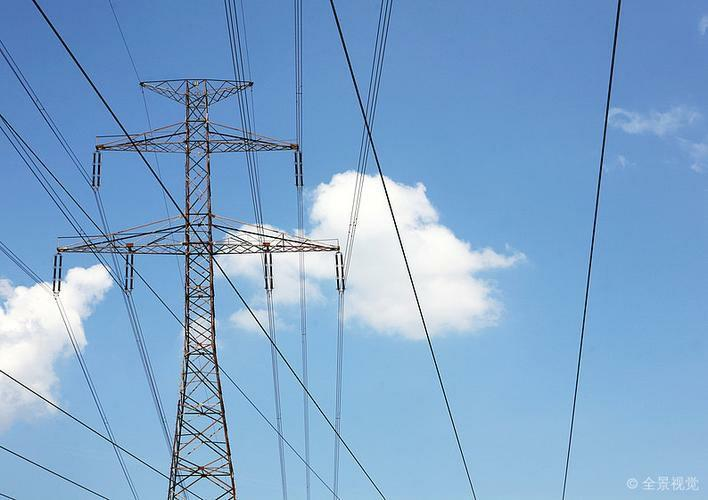power_tower: (50, 66, 339, 500)
